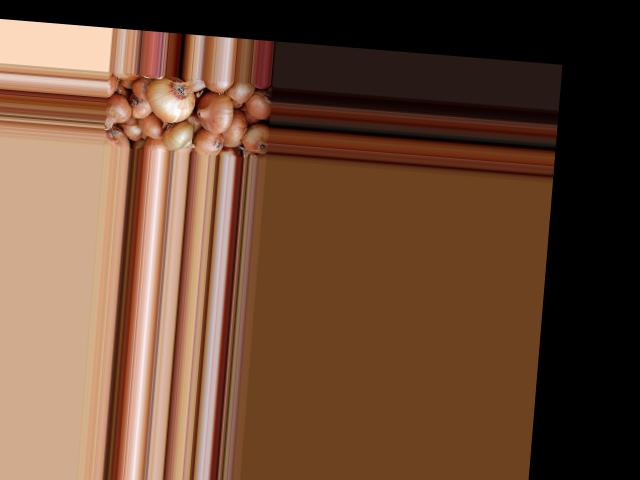onion: (242, 123, 270, 152)
